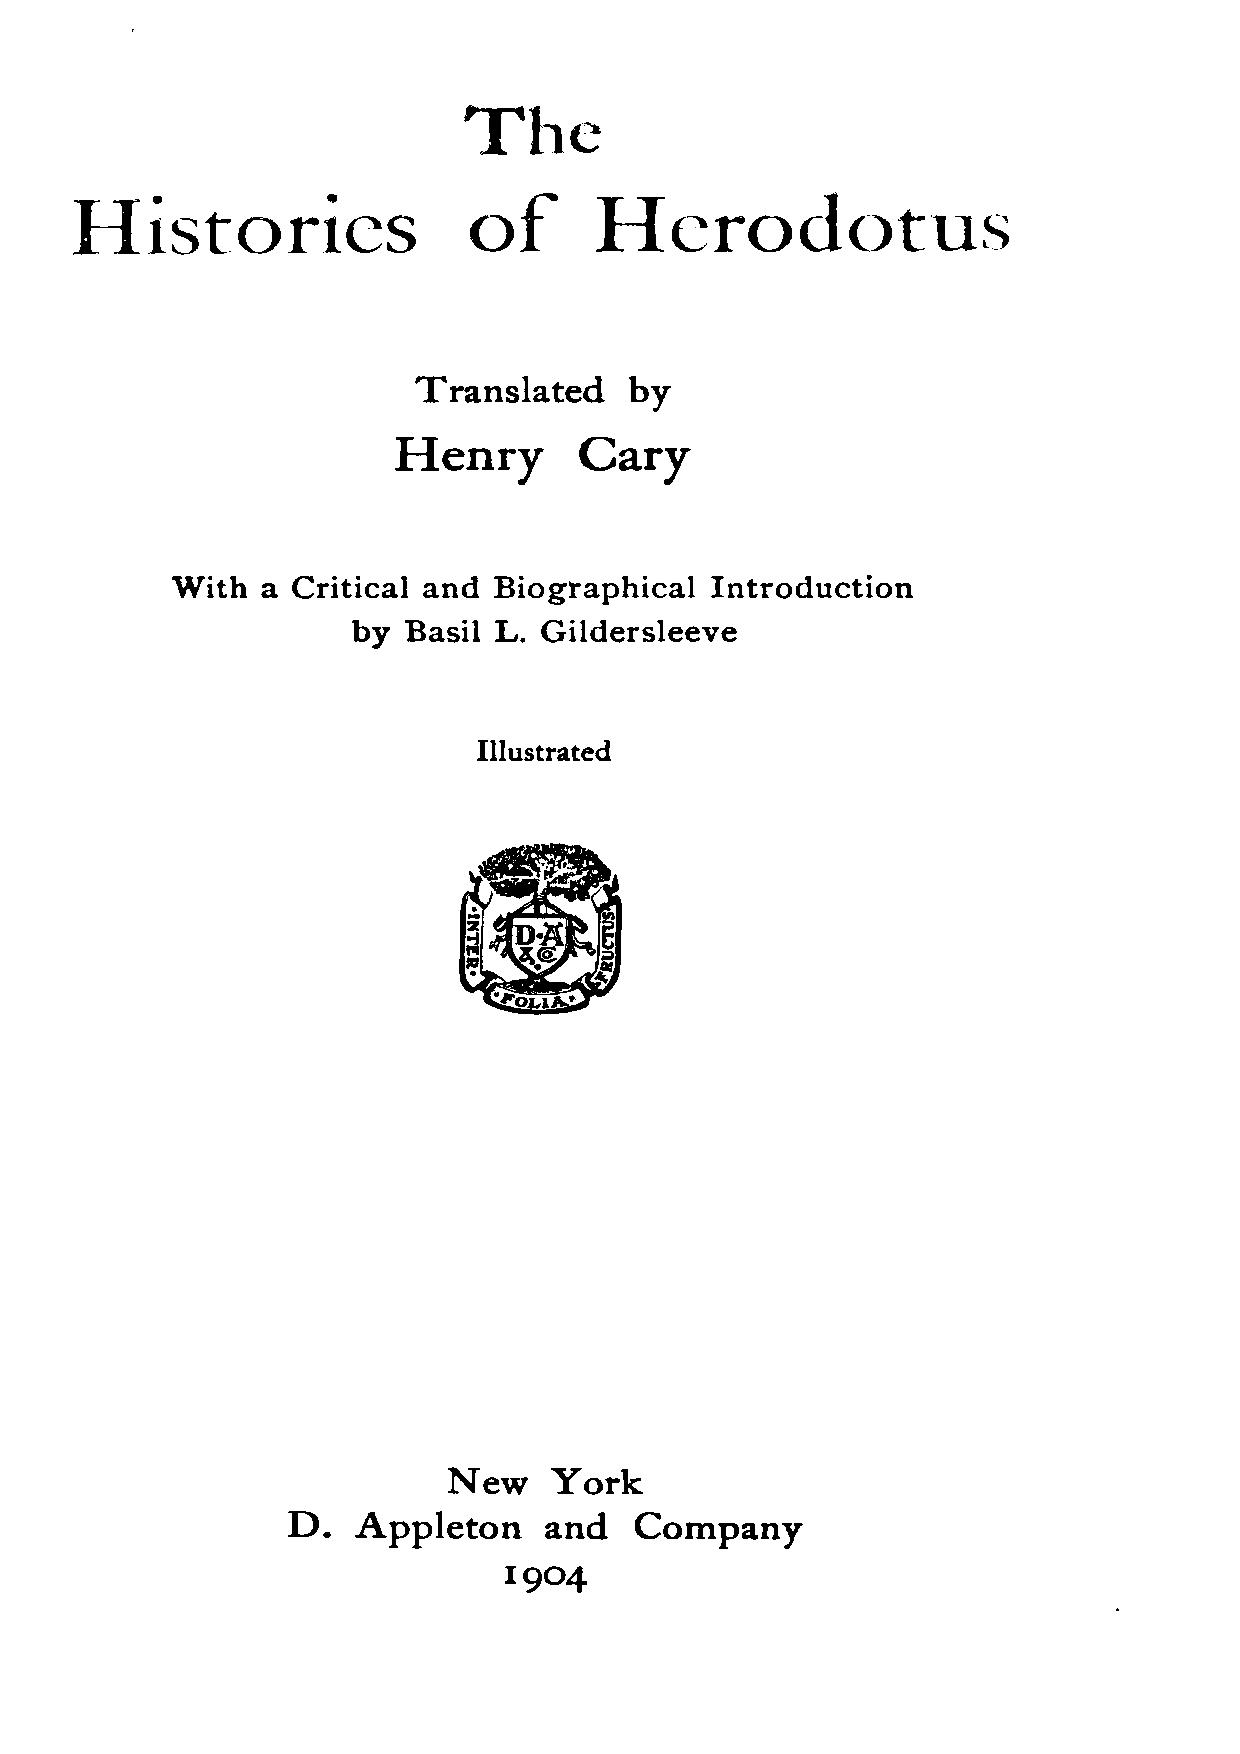author: (389, 372, 692, 487)
title: (64, 101, 1017, 264)
